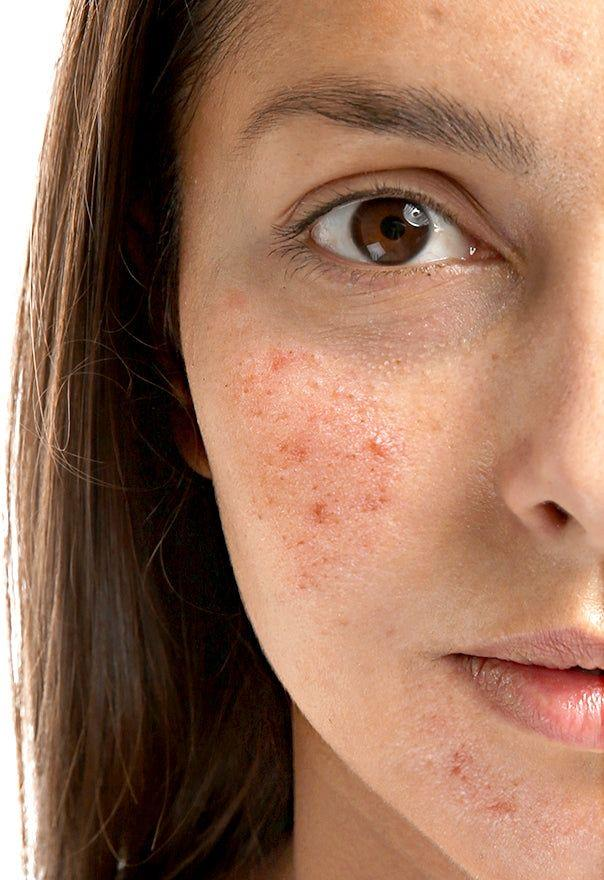Dry-Skin: (248, 370, 398, 565), (440, 750, 532, 838)
